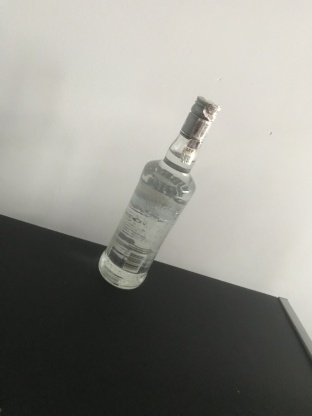nakretka: (178, 93, 221, 147)
